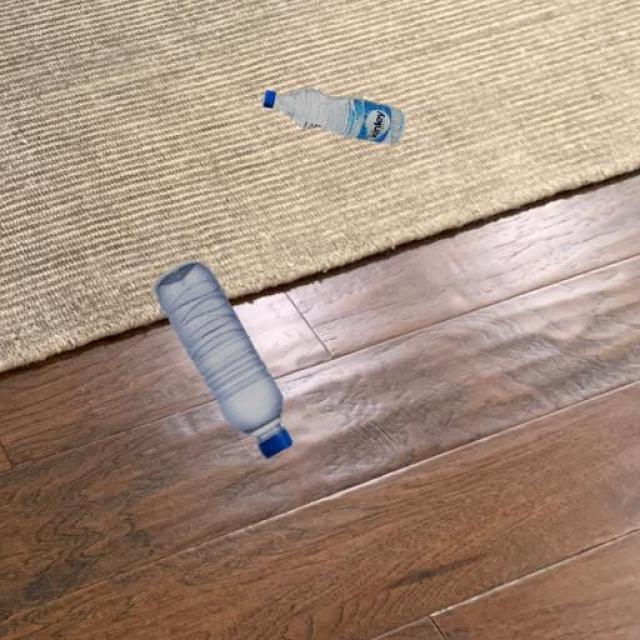bottle: (152, 259, 292, 459), (261, 85, 405, 145)
